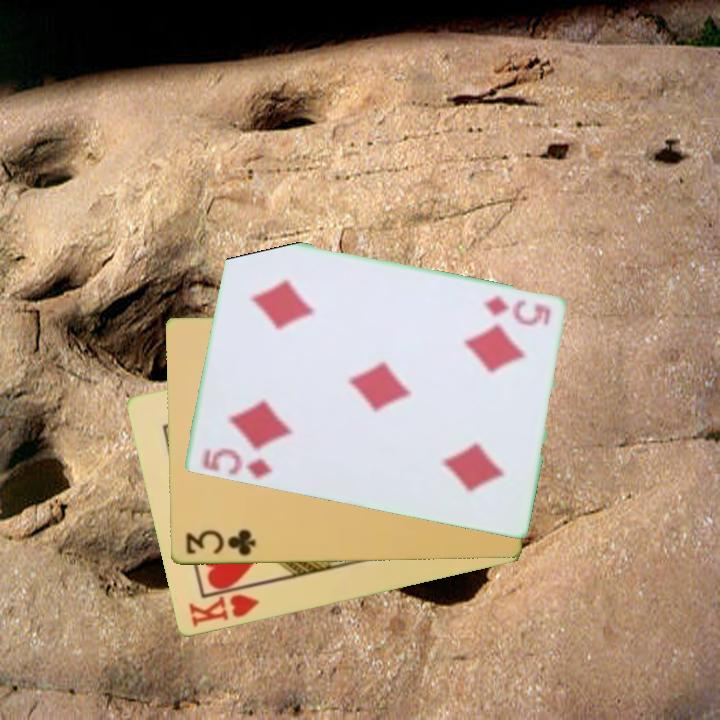3c: (182, 527, 259, 560)
5d: (199, 445, 275, 482), (479, 293, 553, 329)
Kh: (184, 582, 263, 630)
